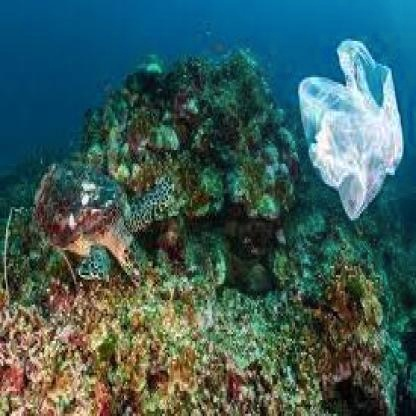pbag: (296, 38, 407, 222)
